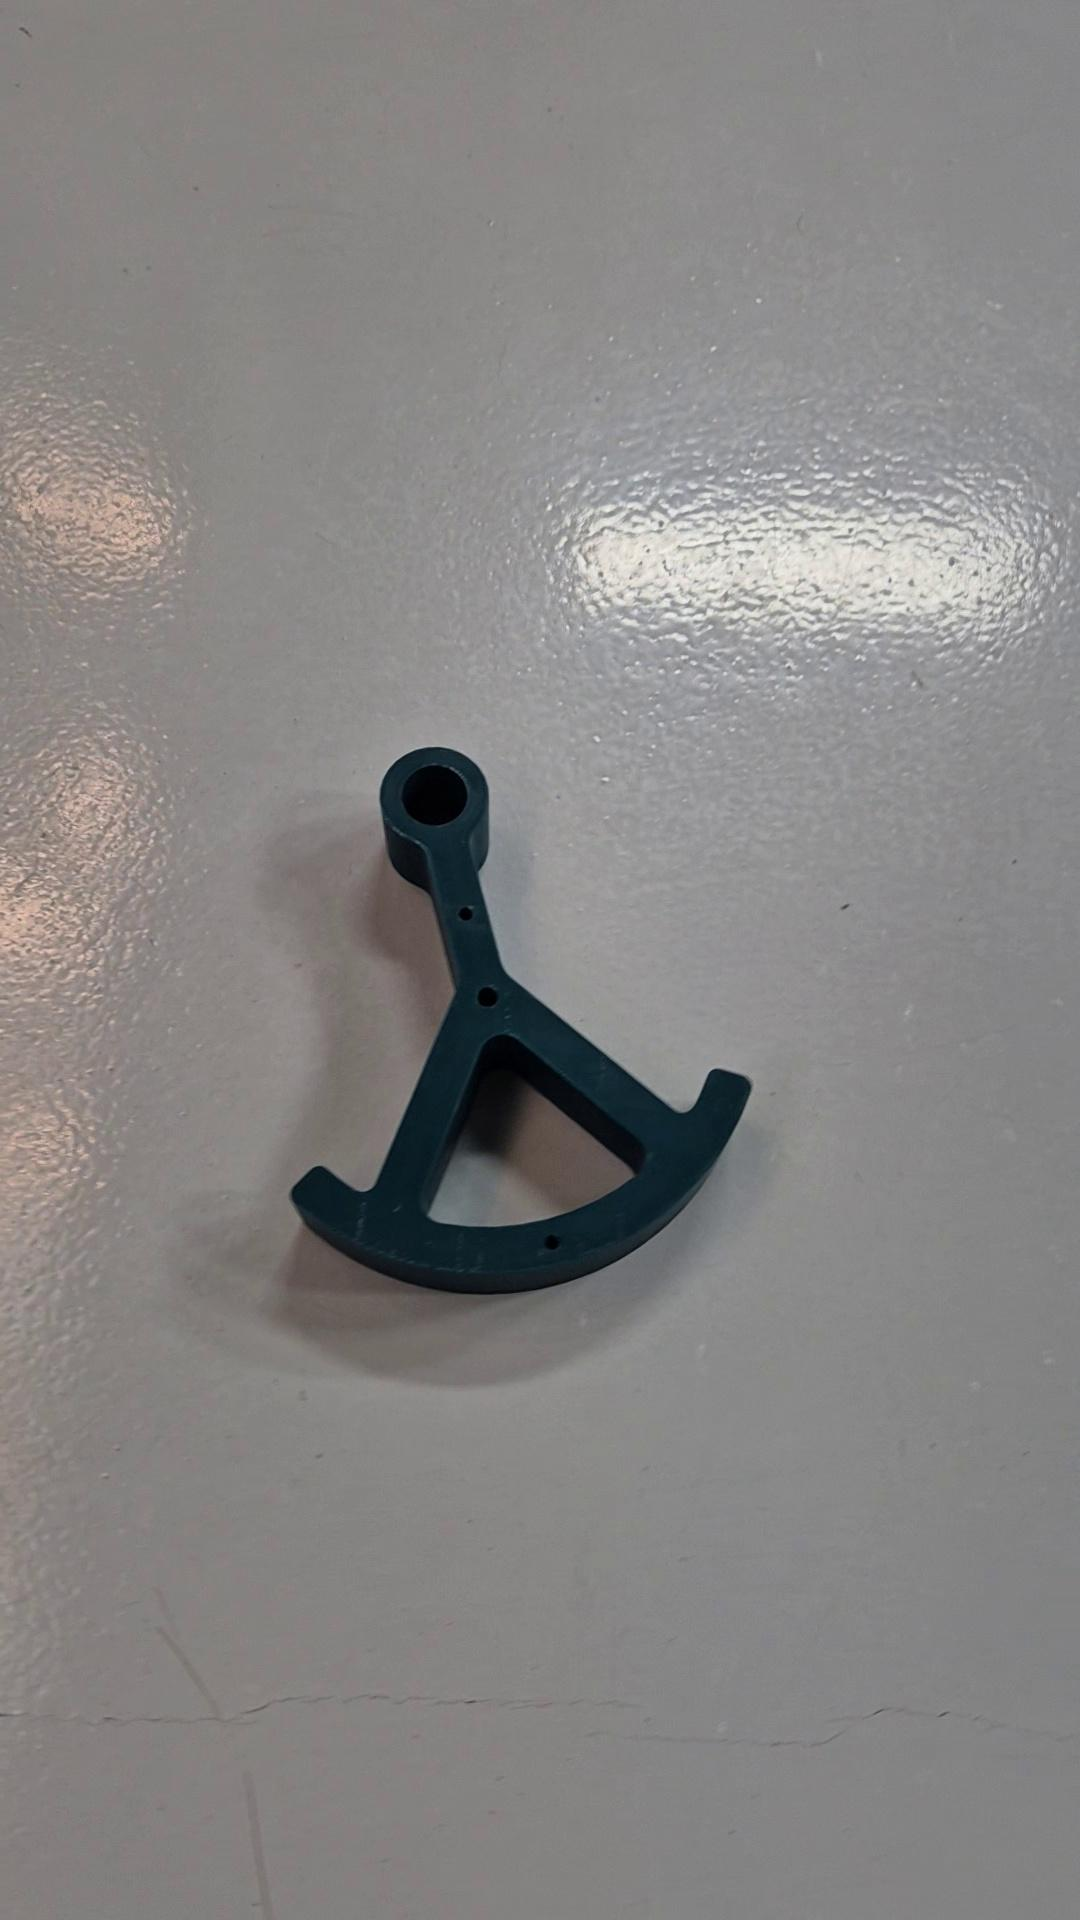Paddles: (285, 744, 756, 1299)
